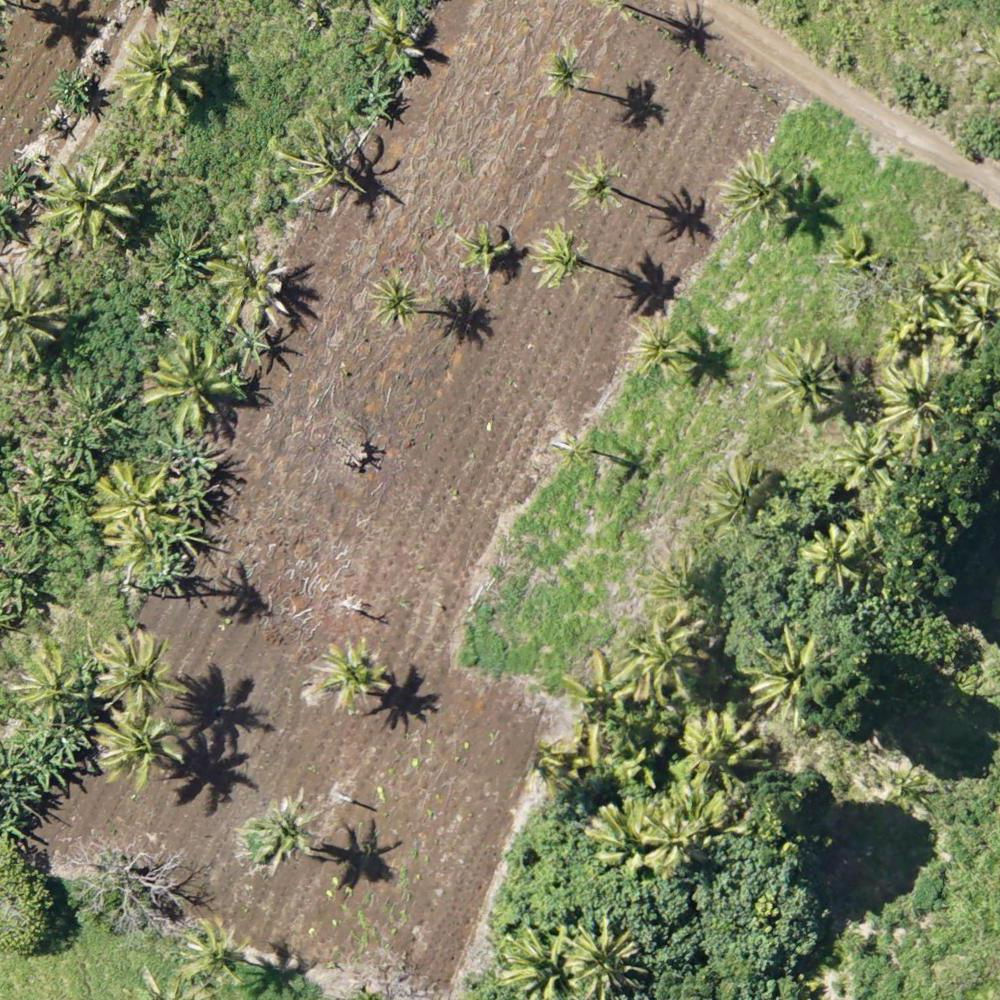Palm: (143, 332, 243, 433), (36, 157, 133, 256), (90, 464, 182, 564), (552, 652, 649, 744), (202, 233, 297, 319), (740, 628, 822, 726), (121, 24, 208, 116), (98, 627, 184, 717), (675, 710, 764, 796), (763, 342, 848, 428), (876, 356, 954, 448), (92, 709, 175, 793), (563, 921, 647, 1000), (493, 919, 579, 996), (631, 621, 709, 697), (641, 547, 715, 627), (306, 642, 387, 710), (707, 459, 788, 527), (176, 917, 252, 989), (250, 799, 323, 872), (11, 646, 83, 719), (719, 150, 790, 223), (635, 801, 704, 875), (835, 419, 901, 490), (622, 313, 686, 380), (802, 522, 865, 588), (357, 7, 424, 66), (530, 225, 592, 288), (453, 222, 514, 281), (567, 158, 624, 215), (369, 272, 424, 330), (538, 41, 592, 98), (830, 226, 883, 280), (542, 429, 596, 480)
